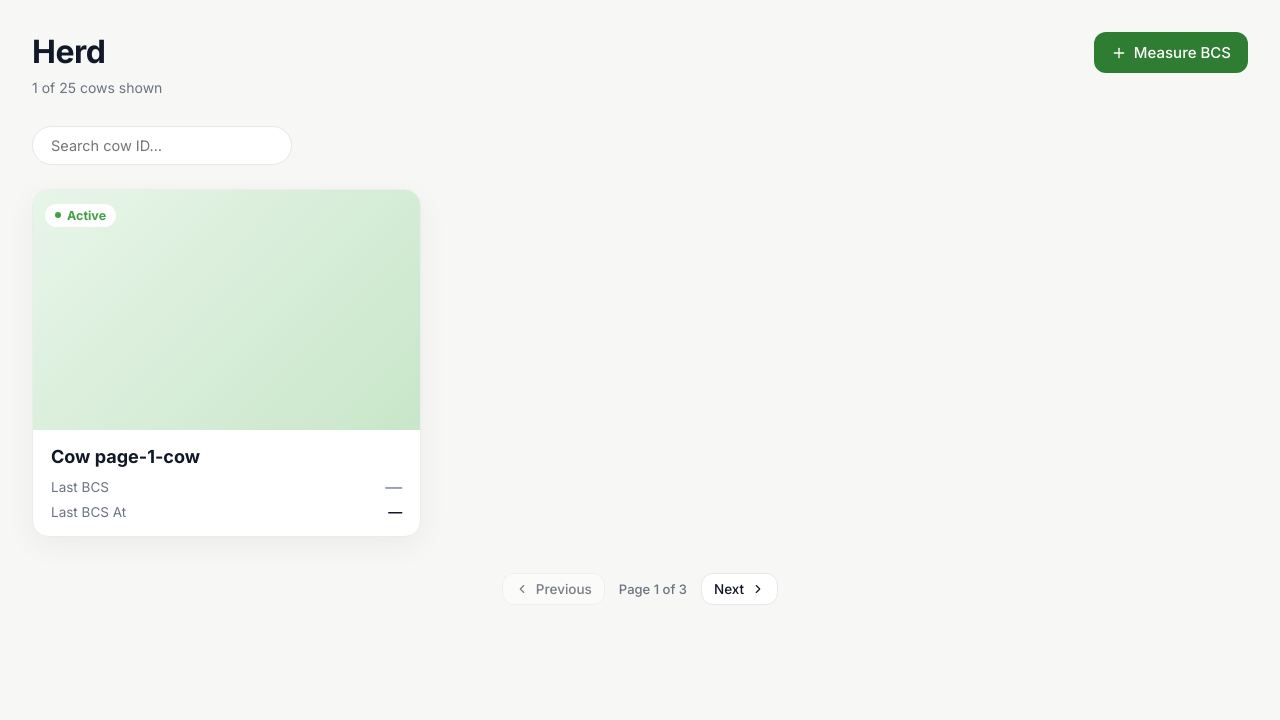
Test: HerdPage › clicking Next/Previous updates the URL and refetches that page
Check: the text "Page 1 of 3" is shown, box [619,581,687,597]
Click the button "Next" at point(740, 589), box [701,573,778,605]
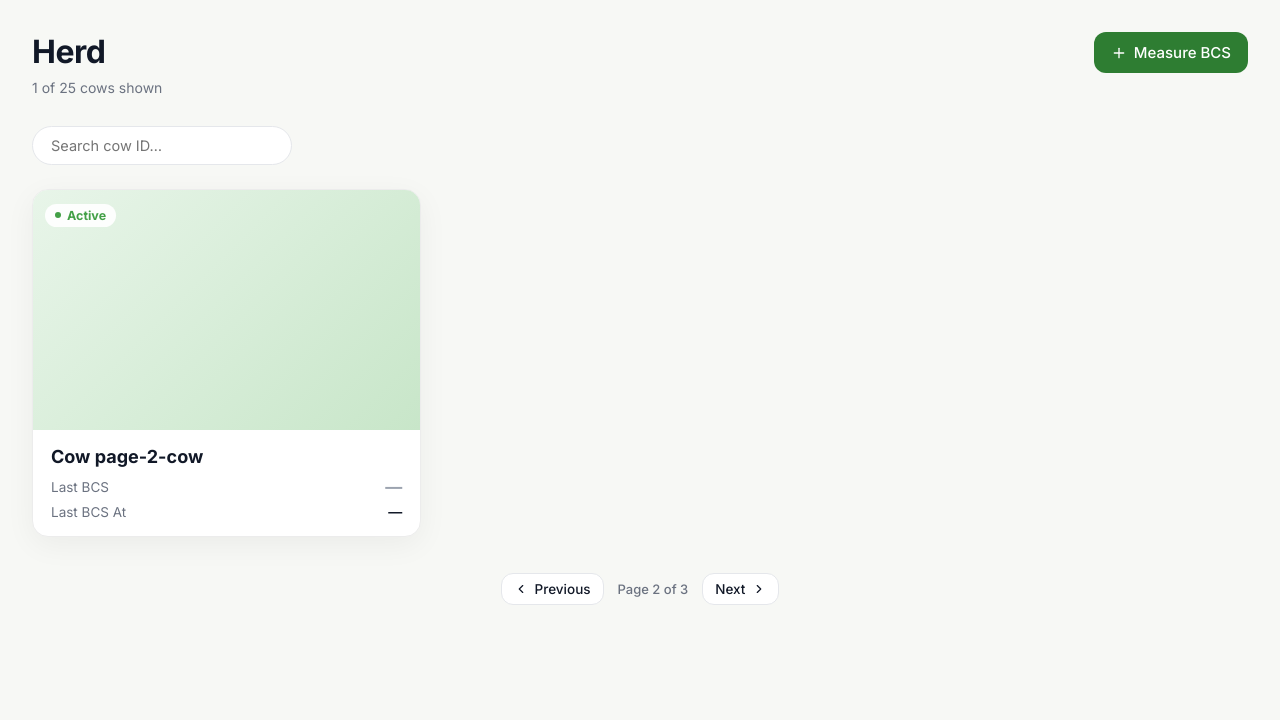
Check: the text "Page 2 of 3" is shown, box [618,581,688,597]
Click the button "Previous" at point(552, 589), box [500,573,604,605]
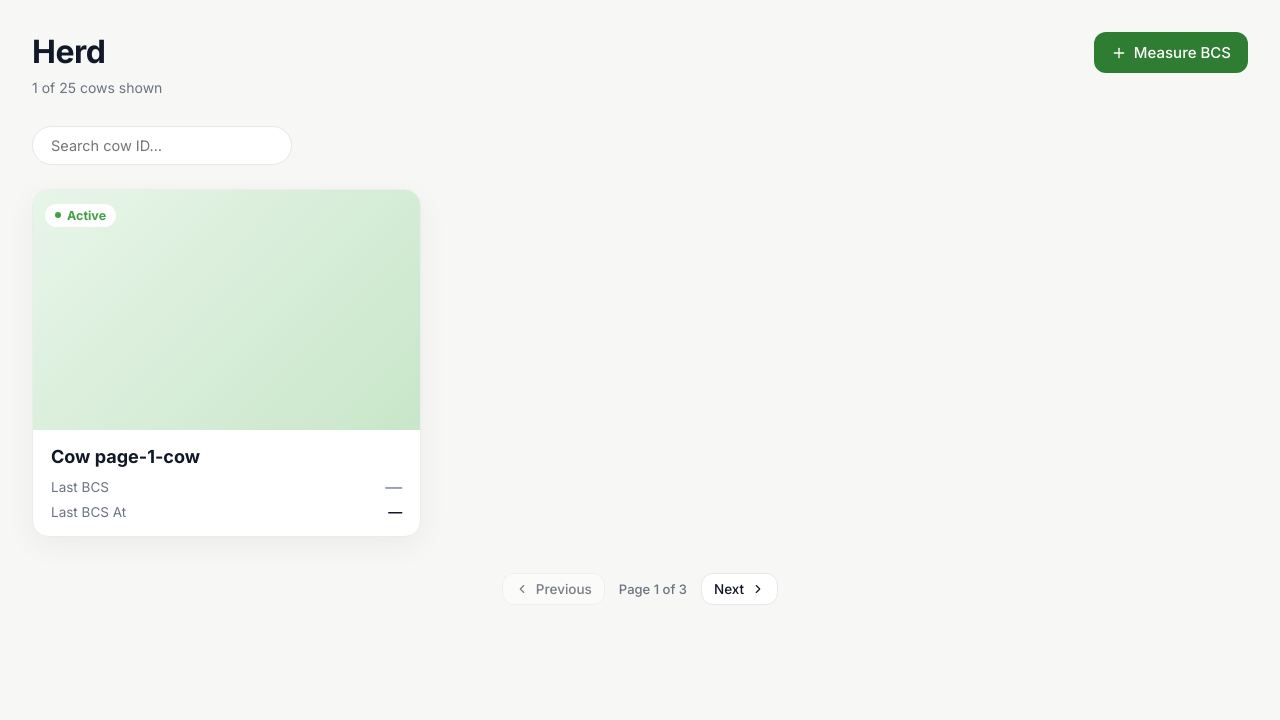
Check: the text "Page 1 of 3" is shown, box [619,581,687,597]
